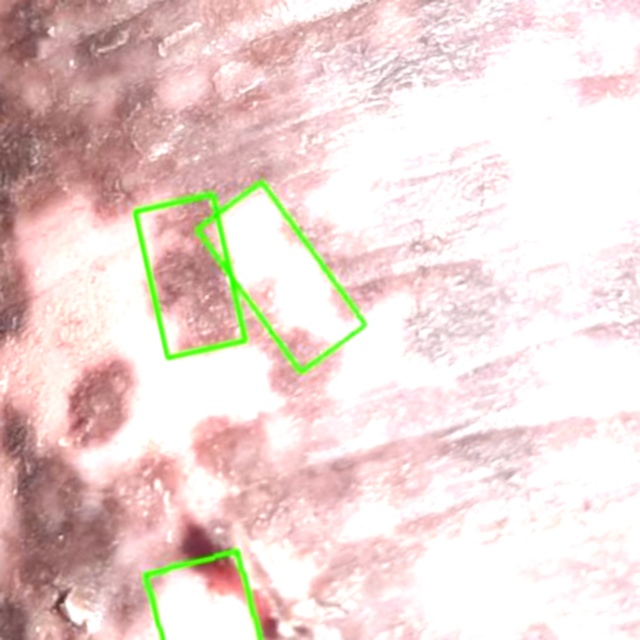Eczema: (196, 181, 366, 371), (134, 194, 245, 358)
